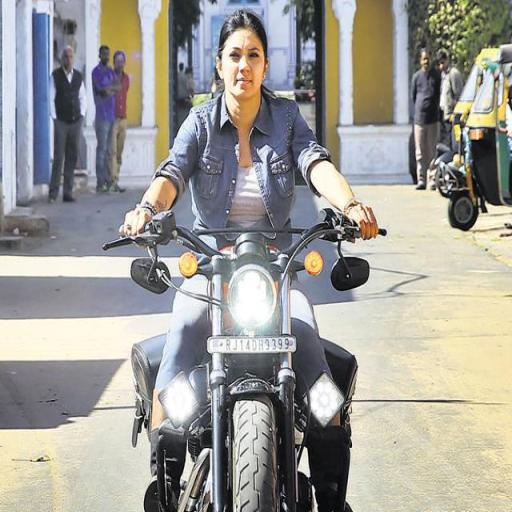no helmet: (167, 10, 349, 188)
